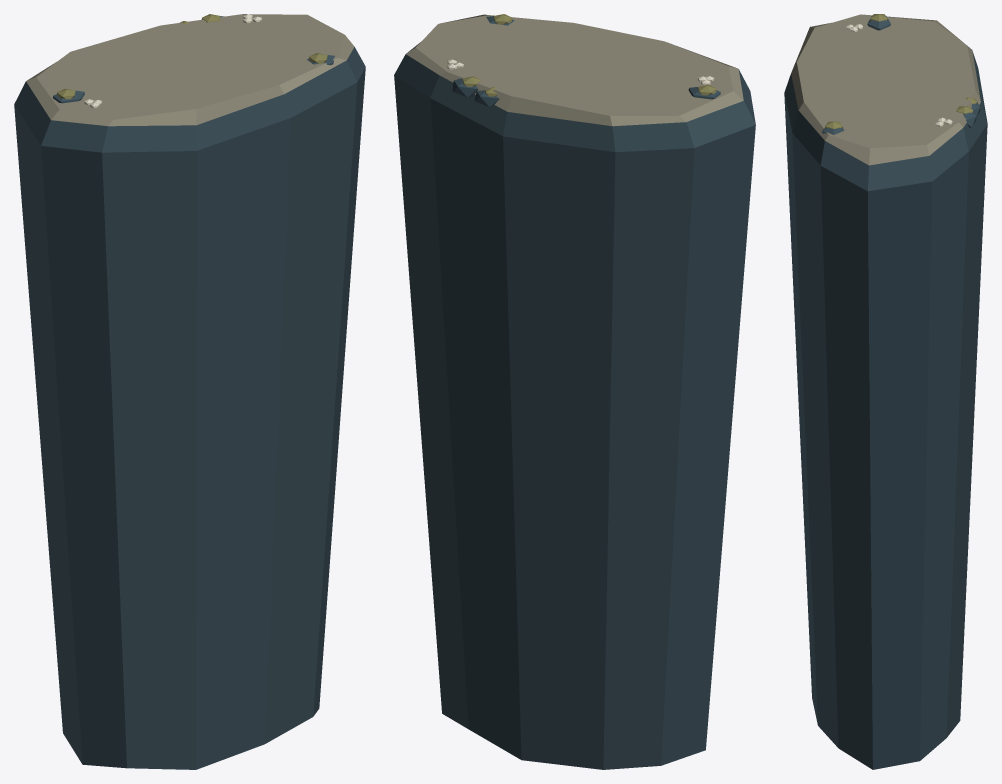
Rendered from tidal_ledge.glb.
3 views of the same model, side by side, from view 1: azimuth 30°, elevation 25°; view 2: azimuth 150°, elevation 25°; view 3: azimuth 270°, elevation 25° (orthographic). The views are drawn at different scales.
Visible parts, largest first — view 1: Tidal bands; view 2: Tidal bands; view 3: Tidal bands.
Part boxes in pixels (x1,y1,x2,y2): Tidal bands: [14, 14, 365, 769]; Tidal bands: [394, 14, 755, 769]; Tidal bands: [784, 14, 987, 769].
Size of the model in its own units: 2.87 by 5.62 by 1.62.
